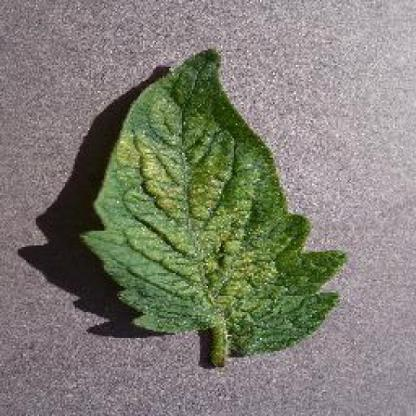Tomato_Spider_Mites: (84, 50, 346, 349)
